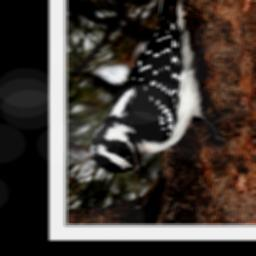Woodpecker: (89, 0, 224, 174)
